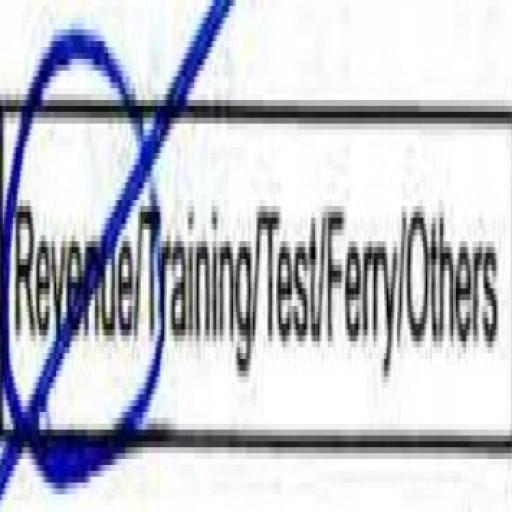check: (0, 18, 139, 512)
